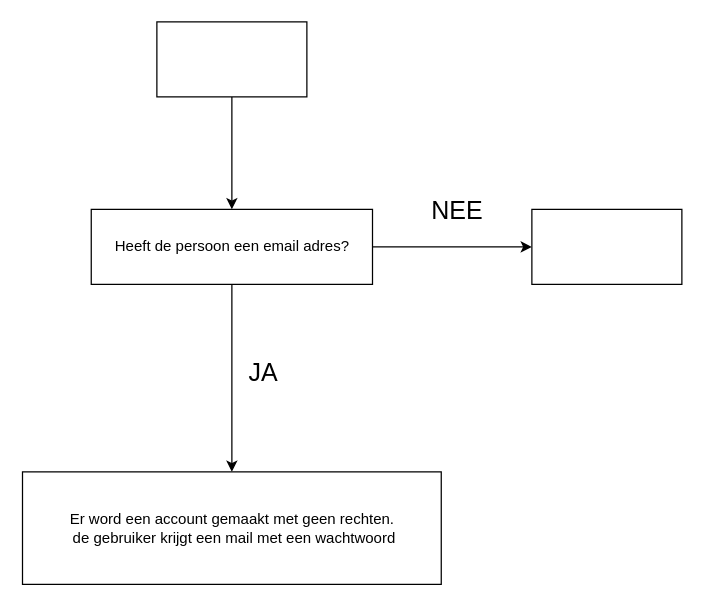
Image size: 704x606. Some labels were removed from this diagram. The shapes that lost their labels are listed below. From the top down, each one's centre as x and y in pixels, then its label:
At point 231,59: "Is gebruiker? word aangevinkt".
At point 606,246: "Fout melding persoon moet email adres hebben voor wachtwoord".
